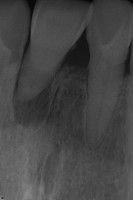Furcation Involvement: (12, 78, 52, 125)
